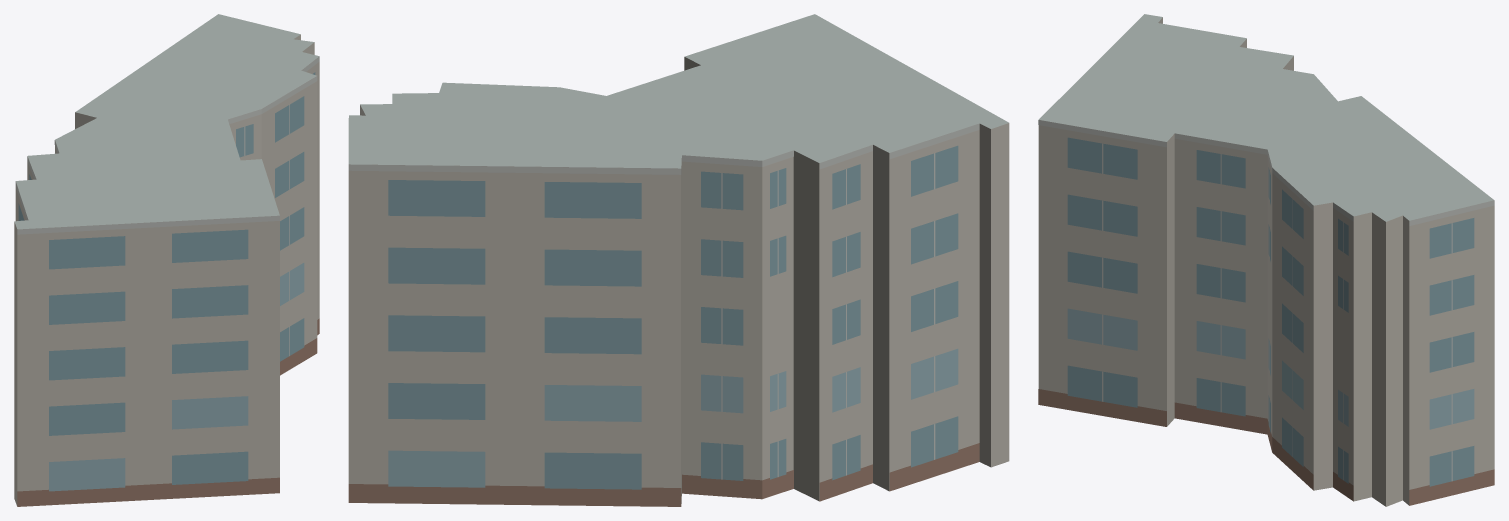
File: survey-upis-32781157.glb
The picture shows the model from 3 angles, left to right: view 1: azimuth 30°, elevation 25°; view 2: azimuth 150°, elevation 25°; view 3: azimuth 270°, elevation 25°; orthographic projection. The views are drawn at different scales.
Parts seen in each view (by area): view 1: survey-upis-32781157.tmp; view 2: survey-upis-32781157.tmp; view 3: survey-upis-32781157.tmp.
Boxes of the visible parts, box(x1,y1,x2,y2) form: survey-upis-32781157.tmp: box(14, 14, 319, 506); survey-upis-32781157.tmp: box(348, 14, 1009, 506); survey-upis-32781157.tmp: box(1038, 14, 1494, 506).
Bounding box in the file's own units: 20.35 × 13 × 18.86.
